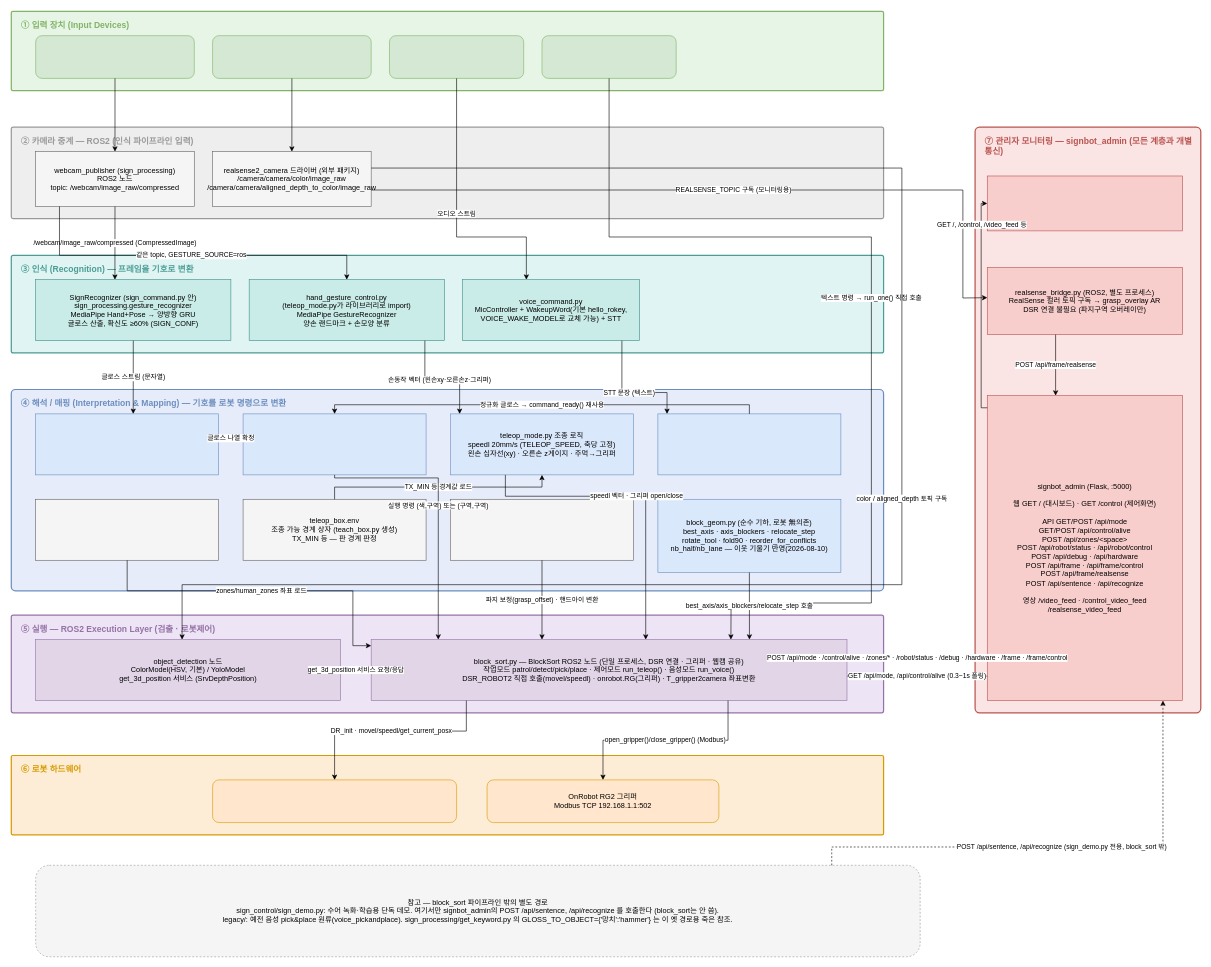
Image size: 1211x967. Some labels were removed from this diagram. Here are the shapes that lost their labels. From the top down, the centre of each, then its label:
At pixel 114 56: "웹캠 (수어 인식 · 손동작 조종 공용 입력)".
At pixel 291 56: "Intel RealSense D435i (그리퍼 장착 · 로봇 시점 겸 물체 검출용)".
At pixel 456 56: "마이크 (음성모드 웨이크워드 + STT)".
At pixel 608 56: "CLI 텍스트 입력".
At pixel 1084 203: "관리자 웹 브라우저 (대시보드 · 제어화면 열람)".
At pixel 127 444: "sign_command.py collect_command() 문장 누적 (명사+동사 가중 VERB_BONUS, 확정 시 즉시 실행)".
At pixel 334 444: "command_ready() LLM 파싱 (OPENAI, gpt-4o) → (색,구역) 키 없음/실패 시 규칙기반 해석으로 폴백".
At pixel 749 444: "voice_command.py 정규화 문장 → sign_command 글로스 표기 command_ready() 그대로 재사용".
At pixel 127 529: "zones.yaml zones 1~4(로봇, rx·ry·rz 포함) · human_zones 1~4 teach_zones.py 로 생성".
At pixel 541 529: "center_calib.yaml / T_gripper2camera.npy 파지 중심 보정 · 핸드아이 좌표변환".
At pixel 334 801: "Doosan M0609 드라이버 (dsr_bringup2 / dsr_msgs2, 별도 워크스페이스)".
